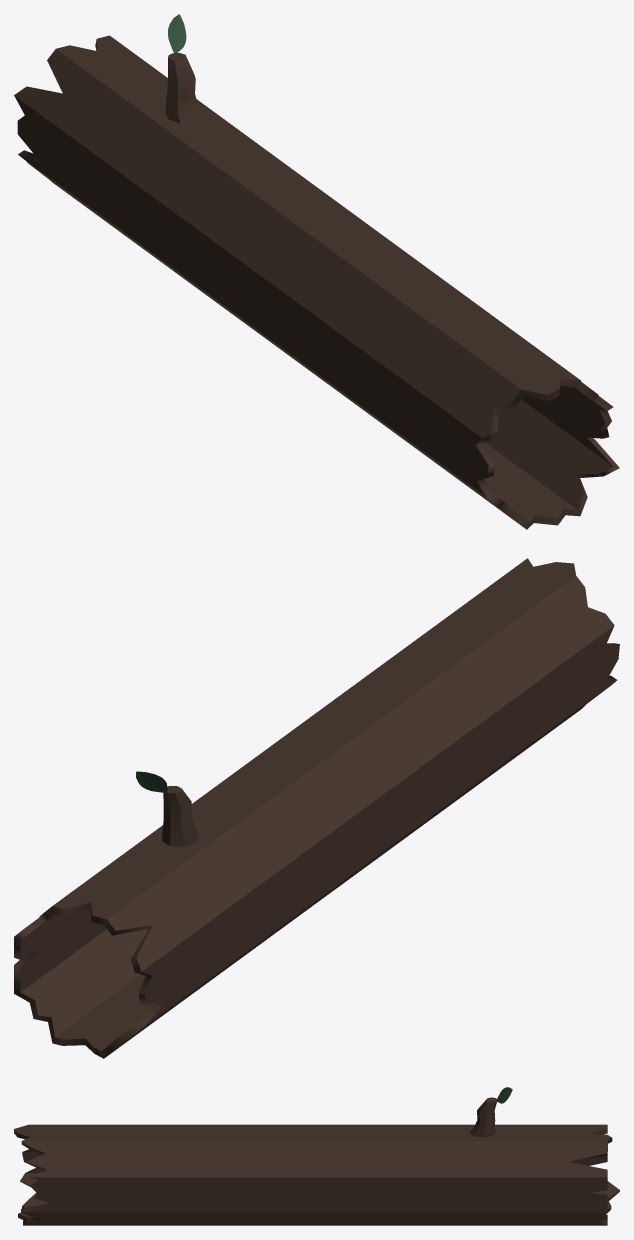
Rendered from leaf_log.fbx.
The picture shows the model from 3 angles, top to bottom: view 1: azimuth 30°, elevation 25°; view 2: azimuth 150°, elevation 25°; view 3: azimuth 270°, elevation 25°; orthographic projection. The views are drawn at different scales.
Parts seen in each view (by area): view 1: pCylinder9; view 2: pCylinder9; view 3: pCylinder9.
Boxes of the visible parts, bbox=[...] form: pCylinder9: bbox=[14, 14, 619, 529]; pCylinder9: bbox=[14, 558, 619, 1058]; pCylinder9: bbox=[14, 1087, 619, 1225].
Size of the model in its own units: 2.05 by 3.24 by 13.27.
